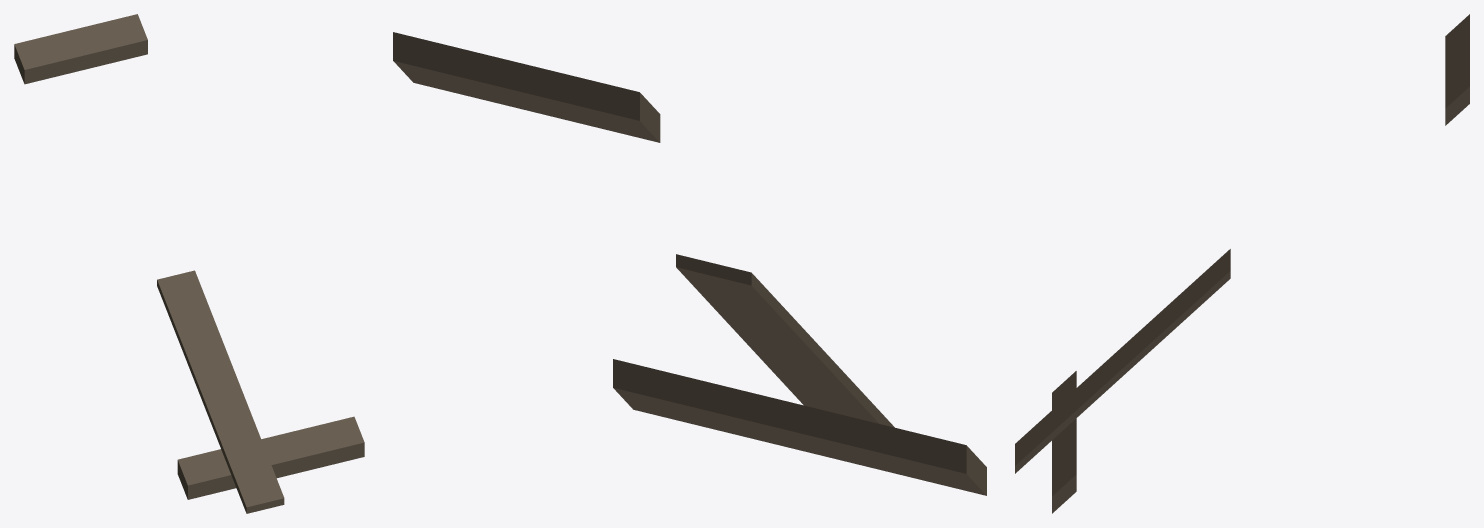
Rendered from dach_bretter_1x2_kaputt.glb.
3 renders of one model, left to right at view 1: azimuth 30°, elevation 25°; view 2: azimuth 150°, elevation 25°; view 3: azimuth 270°, elevation 25°, orthographic. The views are drawn at different scales.
Parts seen in each view (by area): view 1: dach_bretter_1x2_kaputt; view 2: dach_bretter_1x2_kaputt; view 3: dach_bretter_1x2_kaputt.
Part boxes in pixels (left/top/right/bottom): dach_bretter_1x2_kaputt: left=14, top=14, right=364, bottom=513; dach_bretter_1x2_kaputt: left=393, top=32, right=986, bottom=495; dach_bretter_1x2_kaputt: left=1015, top=14, right=1469, bottom=513.
Bounding box in the file's own units: 1 × 1.85 × 1.85.
